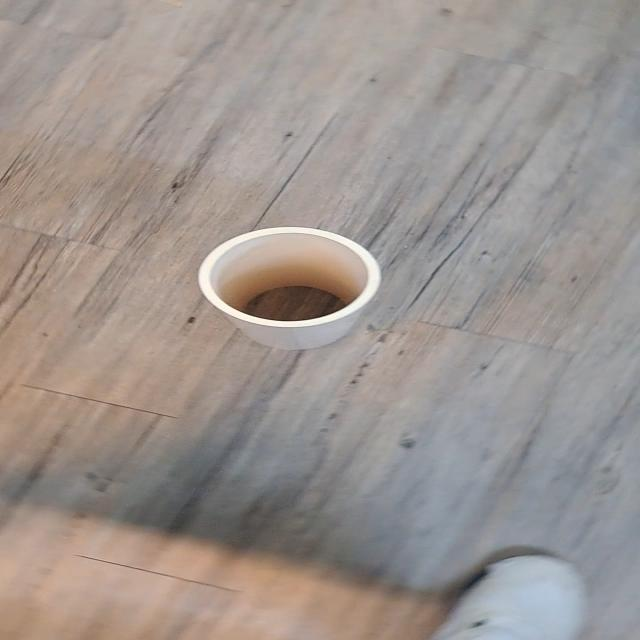CORAL: (173, 219, 402, 365)
